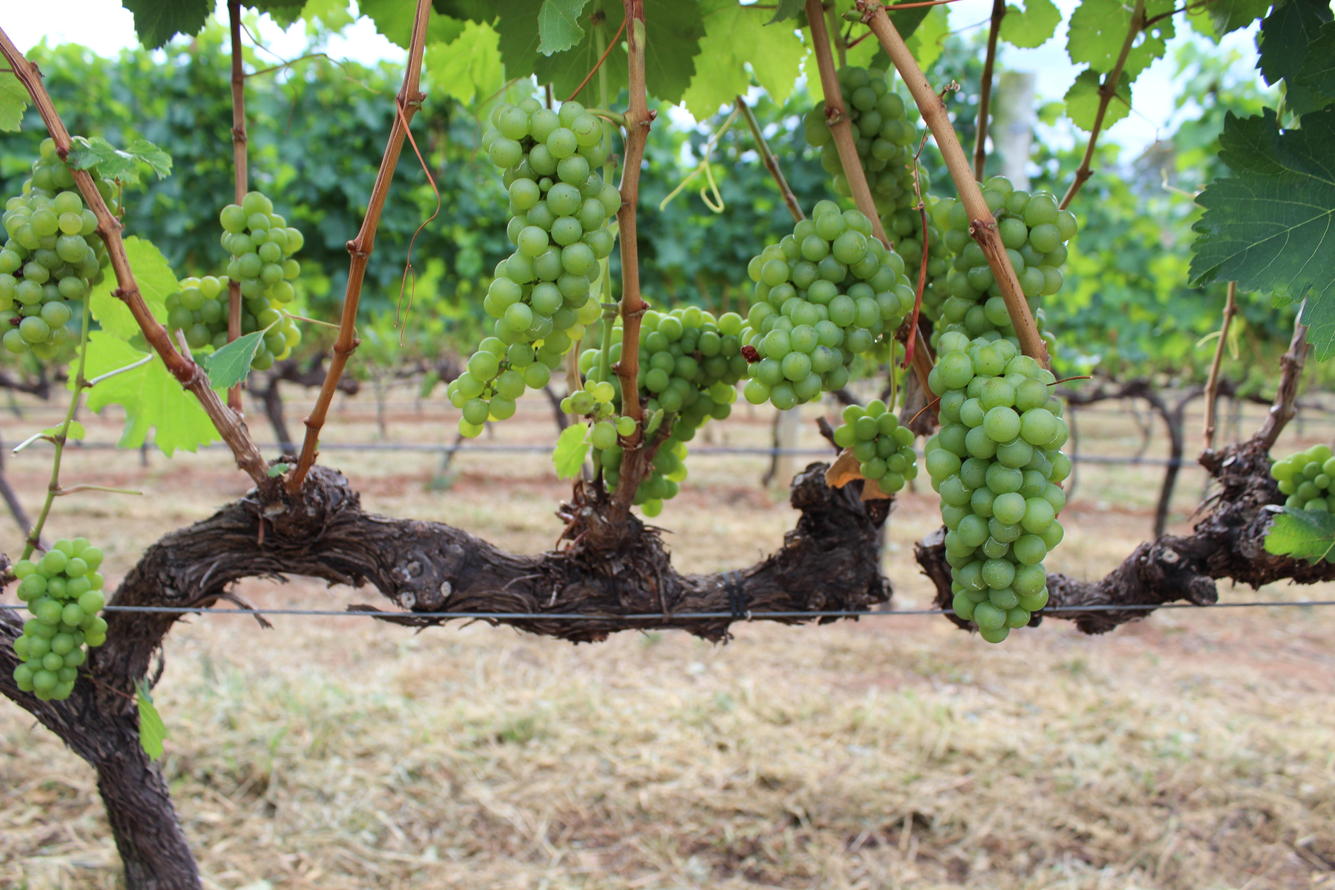leaf: (1190, 108, 1335, 360), (682, 0, 806, 119), (88, 355, 220, 456), (1258, 0, 1332, 114), (424, 21, 504, 104), (68, 136, 172, 184), (1067, 0, 1133, 73), (124, 236, 179, 323), (122, 0, 213, 49), (201, 328, 268, 391), (1265, 507, 1335, 563), (1123, 17, 1174, 81), (90, 275, 139, 339), (999, 0, 1062, 48), (1295, 22, 1335, 96), (85, 331, 145, 379), (358, 0, 415, 49), (1204, 0, 1271, 41), (538, 0, 587, 56), (136, 679, 167, 760), (1064, 69, 1102, 132), (553, 423, 589, 479), (0, 72, 28, 132), (1102, 73, 1131, 129), (425, 10, 463, 45), (766, 0, 804, 24), (1145, 0, 1173, 18), (65, 420, 86, 439), (42, 424, 64, 436), (89, 374, 95, 377), (72, 372, 73, 379)
